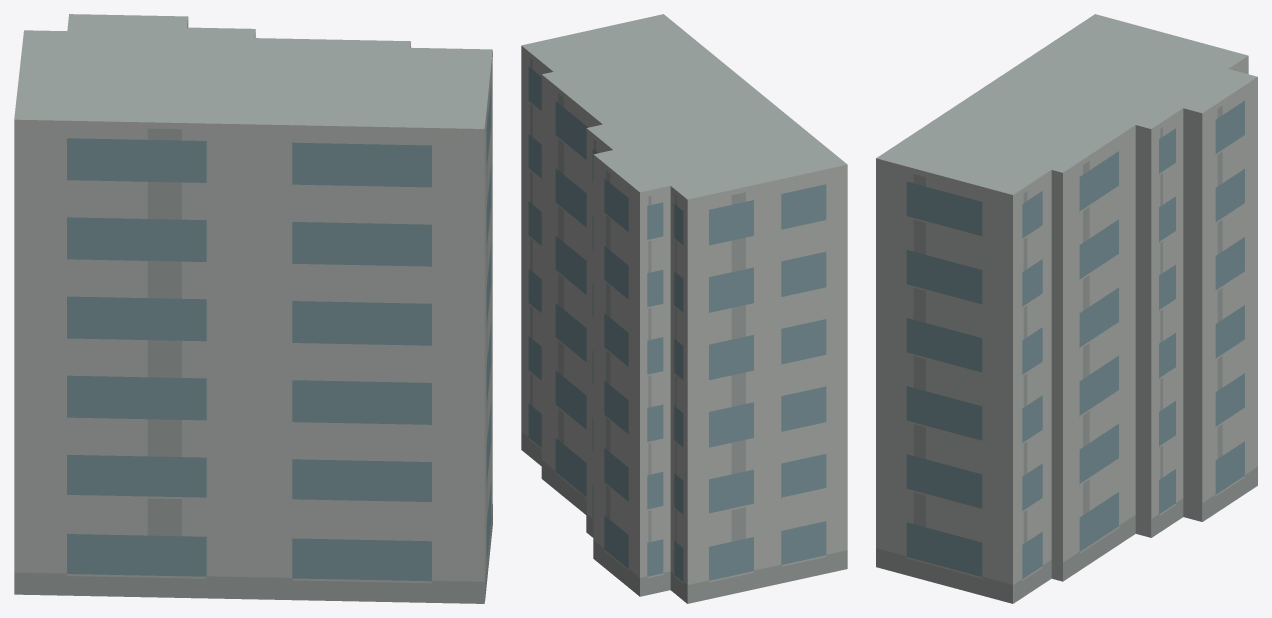
The model's file is survey-upis-33009493.glb.
3 renders of one model, left to right at view 1: azimuth 30°, elevation 25°; view 2: azimuth 150°, elevation 25°; view 3: azimuth 270°, elevation 25°, orthographic. The views are drawn at different scales.
Visible parts, largest first — view 1: survey-upis-33009493.tmp; view 2: survey-upis-33009493.tmp; view 3: survey-upis-33009493.tmp.
Boxes of the visible parts, bbox=[...] form: survey-upis-33009493.tmp: bbox=[14, 14, 492, 603]; survey-upis-33009493.tmp: bbox=[521, 14, 847, 603]; survey-upis-33009493.tmp: bbox=[876, 14, 1257, 603].
Bounding box in the file's own units: 17.39 × 18.3 × 15.5.
